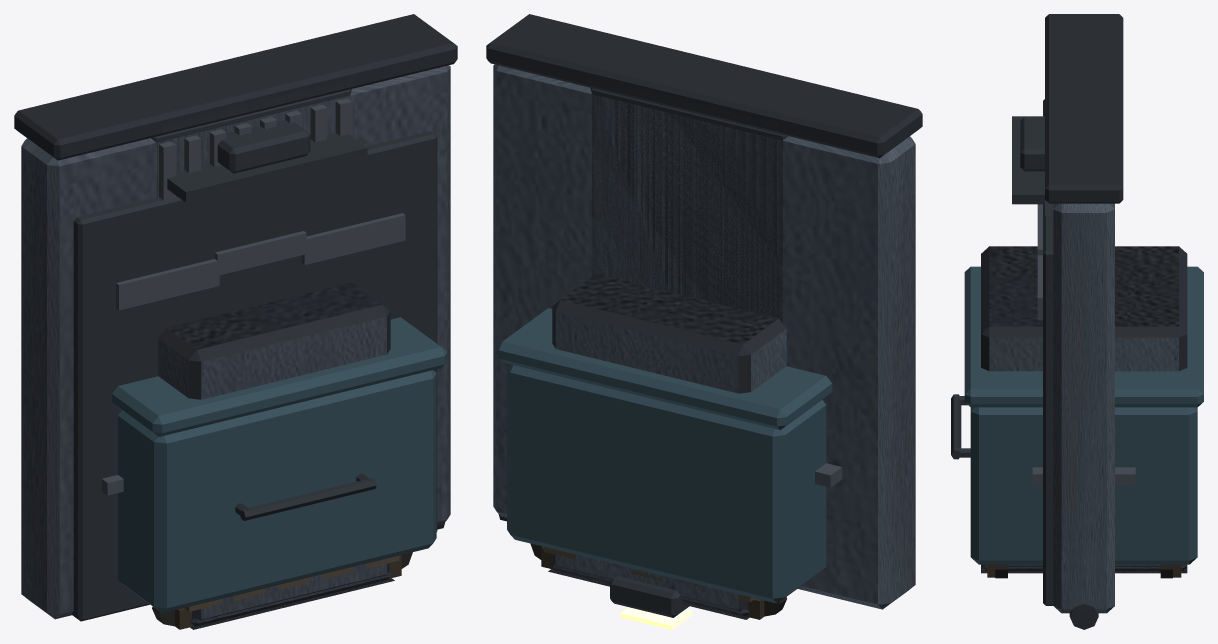
Rendered from env-kit.glb.
3 renders of one model, left to right at view 1: azimuth 30°, elevation 25°; view 2: azimuth 150°, elevation 25°; view 3: azimuth 270°, elevation 25°, orthographic. The views are drawn at different scales.
Parts seen in each view (by area): view 1: edge_gate, prop_dumpster, edge_door, wall_block, edge_corrugated, prop_cart, prop_pallet, floor_grate, street_tile; view 2: edge_gate, prop_dumpster, edge_corrugated, edge_door, wall_block, prop_lamp_wall, prop_pallet, floor_grate; view 3: edge_gate, prop_dumpster, wall_block, edge_door, prop_cart, prop_pipe, floor_grate.
Boxes of the visible parts, left/top/right/bottom form: edge_gate: left=14, top=14, right=457, bottom=621; prop_dumpster: left=102, top=317, right=447, bottom=626; edge_door: left=120, top=40, right=367, bottom=323; wall_block: left=158, top=282, right=390, bottom=620; edge_corrugated: left=151, top=78, right=354, bottom=201; prop_cart: left=235, top=473, right=376, bottom=520; prop_pallet: left=175, top=555, right=401, bottom=629; floor_grate: left=190, top=571, right=391, bottom=626; street_tile: left=190, top=578, right=394, bottom=629; edge_gate: left=486, top=14, right=922, bottom=609; prop_dumpster: left=496, top=308, right=842, bottom=616; edge_corrugated: left=587, top=77, right=788, bottom=322; edge_door: left=587, top=38, right=818, bottom=317; wall_block: left=552, top=274, right=786, bottom=610; prop_lamp_wall: left=610, top=576, right=692, bottom=629; prop_pallet: left=541, top=546, right=764, bottom=619; floor_grate: left=551, top=562, right=749, bottom=616; edge_gate: left=1020, top=14, right=1123, bottom=613; prop_dumpster: left=964, top=266, right=1203, bottom=578; wall_block: left=981, top=246, right=1187, bottom=566; edge_door: left=1012, top=57, right=1123, bottom=255; prop_cart: left=951, top=394, right=970, bottom=459; prop_pipe: left=1069, top=604, right=1098, bottom=629; floor_grate: left=981, top=564, right=1187, bottom=570.
Size of the model in its own units: 2 by 2.43 by 1.22.
Materials: 15 (6 with a texture image).
